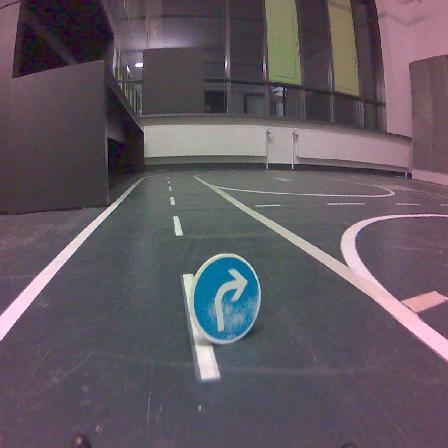RIGHT_TURN: (190, 254, 260, 343)
